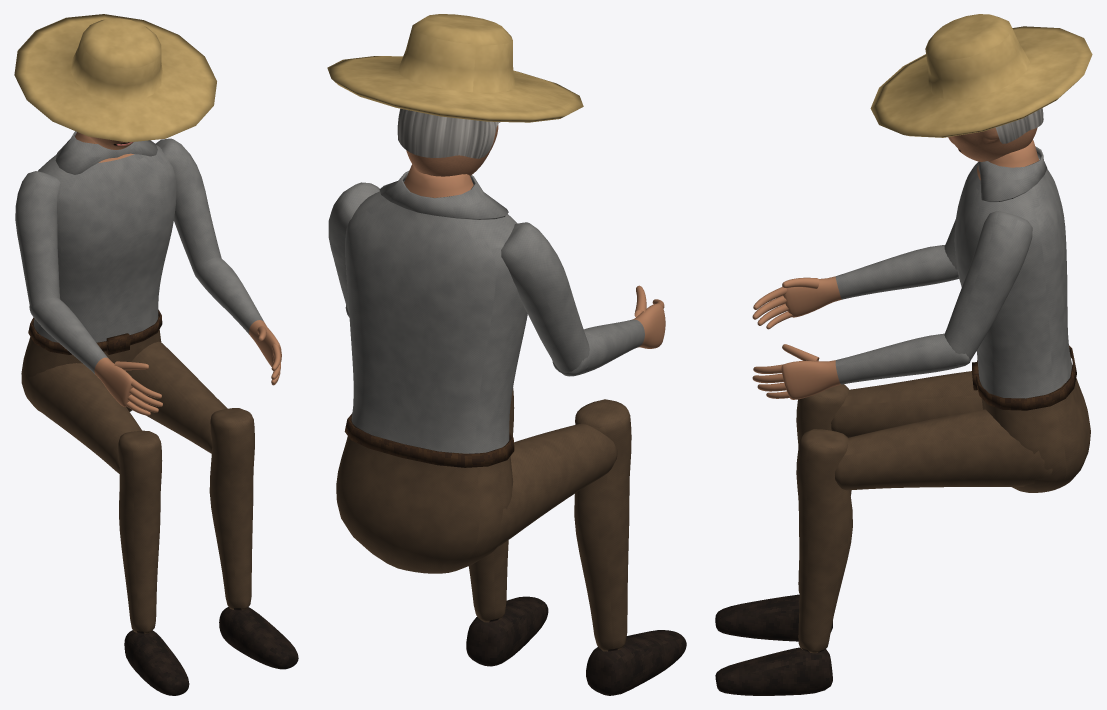
Rendered from persona_hombre_sentado.obj.
The picture shows the model from 3 angles, left to right: view 1: azimuth 30°, elevation 25°; view 2: azimuth 150°, elevation 25°; view 3: azimuth 270°, elevation 25°; orthographic projection. The views are drawn at different scales.
Parts seen in each view (by area): view 1: persona_hombre_sentado; view 2: persona_hombre_sentado; view 3: persona_hombre_sentado.
Boxes of the visible parts, bbox=[...] form: persona_hombre_sentado: bbox=[14, 14, 298, 695]; persona_hombre_sentado: bbox=[327, 14, 686, 695]; persona_hombre_sentado: bbox=[715, 14, 1092, 695].
Bounding box in the file's own units: 0.4919 × 1.42 × 0.7548.
Materials: 13 (13 with a texture image).
